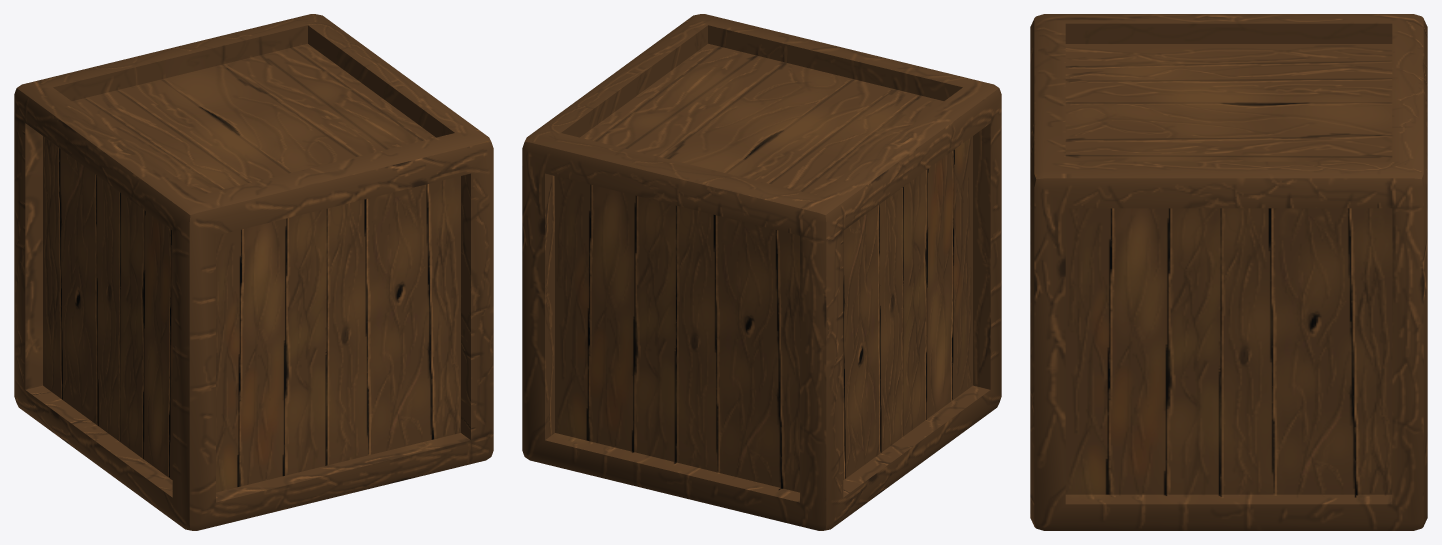
Rendered from crate.fbx.
3 views of the same model, side by side, from view 1: azimuth 30°, elevation 25°; view 2: azimuth 150°, elevation 25°; view 3: azimuth 270°, elevation 25° (orthographic). The views are drawn at different scales.
Visible parts, largest first — view 1: MainBox; view 2: MainBox; view 3: MainBox.
Part boxes in pixels (bbox=[...]): MainBox: bbox=[14, 14, 493, 530]; MainBox: bbox=[522, 14, 1001, 530]; MainBox: bbox=[1030, 14, 1427, 530].
Size of the model in its own units: 200 by 200 by 200.
